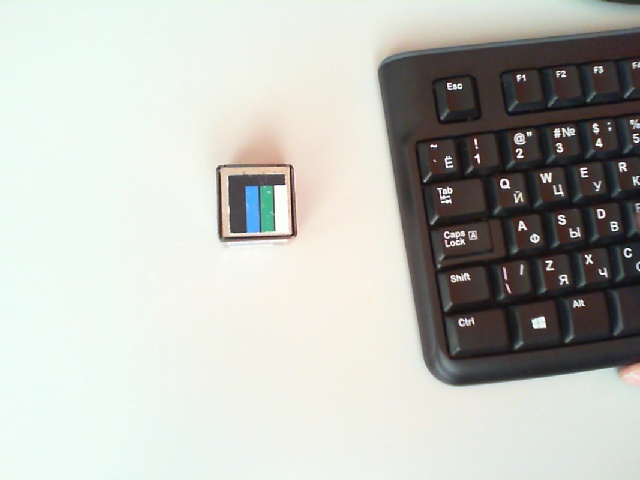square: (227, 174, 287, 233)
